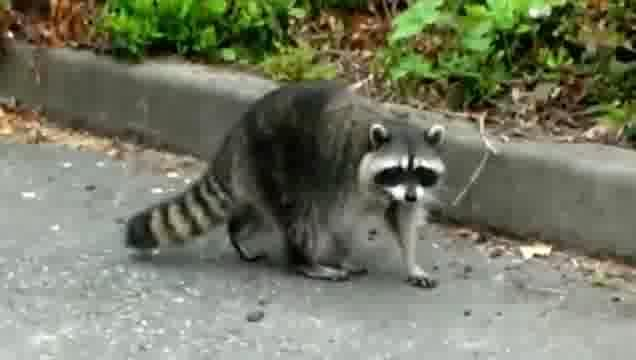raccoon: (126, 83, 447, 290)
